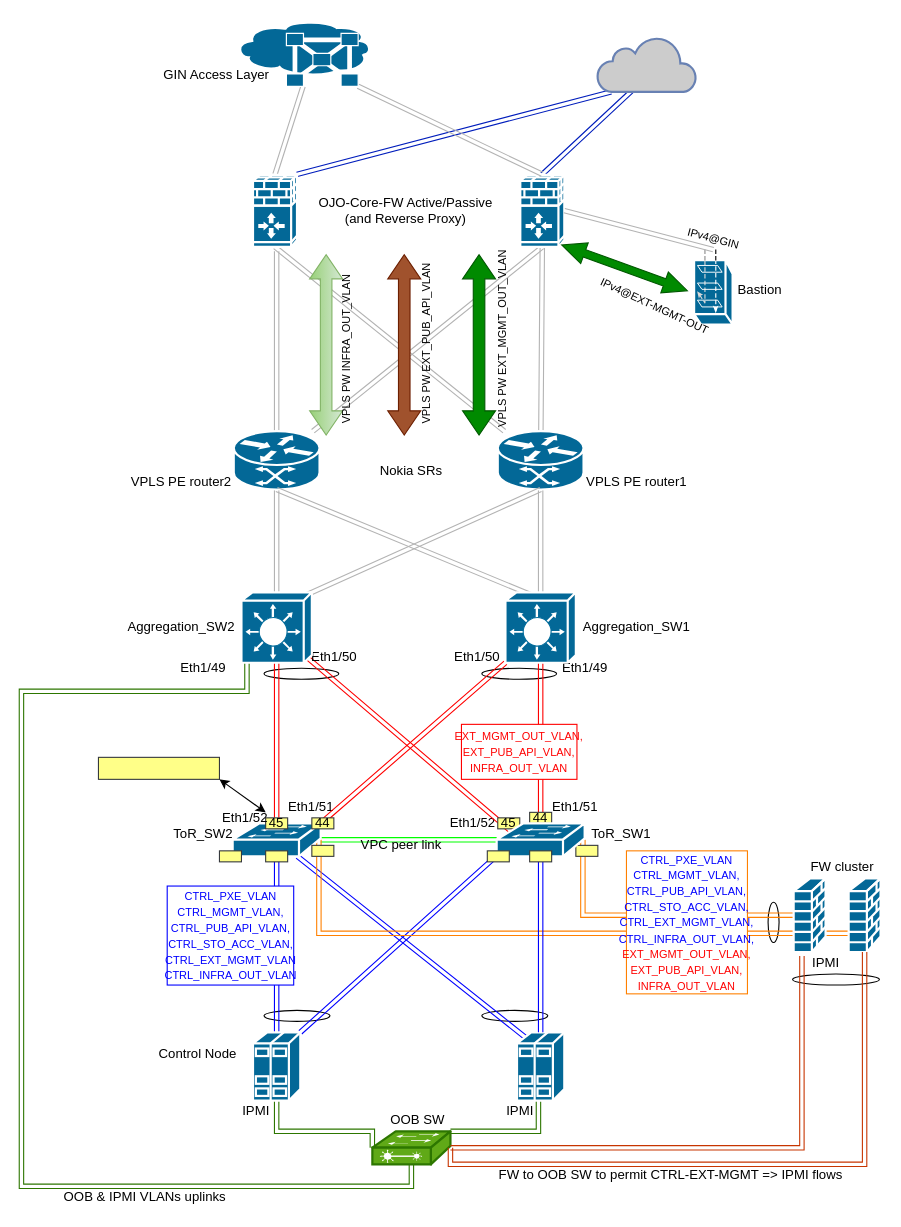
Image size: 901x1227. Some labels were removed from this diagram. Each missing label, with the centre of its shape:
Internet: (x=646, y=63)
vPC member ports: (x=158, y=767)
